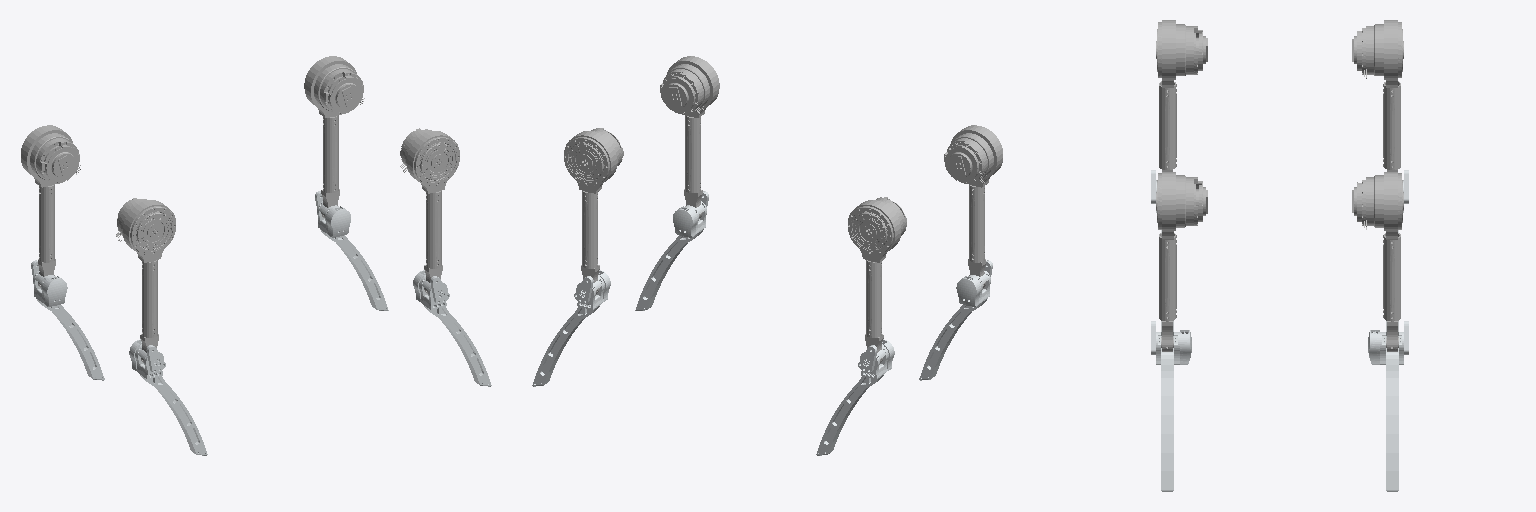
The robot description file, URDF, robot "PONGBOT_Q_V6":
<?xml version="1.0" encoding="utf-8"?>
<!-- This URDF was automatically created by SolidWorks to URDF Exporter! Originally created by [author] ([email redacted])
Commit Version: 1.5.1-0-g916b5db  Build Version: 1.5.7152.31018
For more information, please see http://wiki.ros.org/sw_urdf_exporter -->
<robot
    name="PONGBOT_Q_V6">
    <link
        name="BODY">
        <inertial>
            <origin
                xyz="-0.0221 0.00034 0.05293"
                rpy="0 0 0" />
            <mass
                value="24.701" />
            <inertia
                ixx="0.34089"
                ixy="-0.00272"
                ixz="-0.08697"
                iyy="1.8849"
                iyz="0.00032"
                izz="1.9898" />
        </inertial>
        <visual>
            <origin
                xyz="0 0 0"
                rpy="0 0 0" />
            <geometry>
                <mesh
                    filename="package://PONGBOT_Q_V6/meshes/BODY.STL" />
            </geometry>
            <material
                name="">
                <color
                    rgba="0.75294 0.75294 0.75294 1" />
            </material>
        </visual>
        <collision>
            <origin
                xyz="0 0 0"
                rpy="0 0 0" />
            <geometry>
                <mesh
                    filename="package://PONGBOT_Q_V6/meshes/BODY.STL" />
            </geometry>
        </collision>
    </link>
    <link
        name="RL_HIP">
        <inertial>
            <origin
                xyz="-0.00113 -0.00546 -0.00059"
                rpy="0 0 0" />
            <mass
                value="1.5346" />
            <inertia
                ixx="0.00131"
                ixy="0"
                ixz="1E-05"
                iyy="0.00176"
                iyz="1E-05"
                izz="0.00141" />
        </inertial>
        <visual>
            <origin
                xyz="0 0 0"
                rpy="0 0 0" />
            <geometry>
                <mesh
                    filename="package://PONGBOT_Q_V6/meshes/RL_HIP.STL" />
            </geometry>
            <material
                name="">
                <color
                    rgba="0.75294 0.75294 0.75294 1" />
            </material>
        </visual>
        <collision>
            <origin
                xyz="0 0 0"
                rpy="0 0 0" />
            <geometry>
                <mesh
                    filename="package://PONGBOT_Q_V6/meshes/RL_HIP.STL" />
            </geometry>
        </collision>
    </link>
    <joint
        name="1_RL_HR_JOINT"
        type="continuous">
        <origin
            xyz="-0.35 0.11502 0"
            rpy="0 0 0" />
        <parent
            link="BODY" />
        <child
            link="RL_HIP" />
        <axis
            xyz="1 0 0" />
    </joint>
    <link
        name="RL_THIGH">
        <inertial>
            <origin
                xyz="0.00018 -0.01146 -0.02836"
                rpy="0 0 0" />
            <mass
                value="3.32" />
            <inertia
                ixx="0.02493"
                ixy="-3E-05"
                ixz="2E-05"
                iyy="0.02533"
                iyz="-0.001"
                izz="0.00394" />
        </inertial>
        <visual>
            <origin
                xyz="0 0 0"
                rpy="0 0 0" />
            <geometry>
                <mesh
                    filename="package://PONGBOT_Q_V6/meshes/RL_THIGH.STL" />
            </geometry>
            <material
                name="">
                <color
                    rgba="0.75294 0.75294 0.75294 1" />
            </material>
        </visual>
        <collision>
            <origin
                xyz="0 0 0"
                rpy="0 0 0" />
            <geometry>
                <mesh
                    filename="package://PONGBOT_Q_V6/meshes/RL_THIGH.STL" />
            </geometry>
        </collision>
    </link>
    <joint
        name="RL_HP_JOINT"
        type="continuous">
        <origin
            xyz="0 0.1049 0"
            rpy="0 0 0" />
        <parent
            link="RL_HIP" />
        <child
            link="RL_THIGH" />
        <axis
            xyz="0 1 0" />
    </joint>
    <link
        name="RL_CALF">
        <inertial>
            <origin
                xyz="0.03375 0.00334 -0.0746"
                rpy="0 0 0" />
            <mass
                value="0.57335" />
            <inertia
                ixx="0.00434"
                ixy="-7E-05"
                ixz="-0.0021615"
                iyy="0.00538"
                iyz="0.00018"
                izz="0.00139" />
        </inertial>
        <visual>
            <origin
                xyz="0 0 0"
                rpy="0 0 0" />
            <geometry>
                <mesh
                    filename="package://PONGBOT_Q_V6/meshes/RL_CALF.STL" />
            </geometry>
            <material
                name="">
                <color
                    rgba="0.89804 0.91765 0.92941 1" />
            </material>
        </visual>
        <collision>
            <origin
                xyz="0 0 0"
                rpy="0 0 0" />
            <geometry>
                <mesh
                    filename="package://PONGBOT_Q_V6/meshes/RL_CALF.STL" />
            </geometry>
        </collision>
    </link>
    <joint
        name="RL_KN_JOINT"
        type="continuous">
        <origin
            xyz="0 0 -0.305"
            rpy="0 0 0" />
        <parent
            link="RL_THIGH" />
        <child
            link="RL_CALF" />
        <axis
            xyz="0 1 0" />
    </joint>
    <!--link
      name="RL_TIP">
      <inertial>
        <origin
          xyz="-0.00076 0 0.00289"
          rpy="0 0 0" />
        <mass
          value="0.1646" />
        <inertia
          ixx="9E-05"
          ixy="0"
          ixz="-1E-05"
          iyy="9E-05"
          iyz="0"
          izz="8E-05" />
      </inertial>
      <visual>
        <origin
          xyz="0 0 0"
          rpy="0 0 0" />
        <geometry>
          <mesh
            filename="package://PONGBOT_Q_V6/meshes/RL_TIP.STL" />
        </geometry>
        <material
          name="">
          <color
            rgba="0.75294 0.75294 0.75294 1" />
        </material>
      </visual>
      <collision>
        <origin
          xyz="0 0 0"
          rpy="0 0 0" />
        <geometry>
          <mesh
            filename="package://PONGBOT_Q_V6/meshes/RL_TIP.STL" />
        </geometry>
      </collision>
    </link>
    <joint
      name="RL_TIP_JOINT"
      type="fixed">
      <origin
        xyz="0.11836 0 -0.26273"
        rpy="0 0 0" />
      <parent
        link="RL_CALF" />
      <child
        link="RL_TIP" />
      <axis
        xyz="0 0 0" />
    </joint-->
    <link
        name="RR_HIP">
        <inertial>
            <origin
                xyz="-0.00113 0.00546 0.00059"
                rpy="0 0 0" />
            <mass
                value="1.5346" />
            <inertia
                ixx="0.00131"
                ixy="0"
                ixz="-1E-05"
                iyy="0.00176"
                iyz="1E-05"
                izz="0.00141" />
        </inertial>
        <visual>
            <origin
                xyz="0 0 0"
                rpy="0 0 0" />
            <geometry>
                <mesh
                    filename="package://PONGBOT_Q_V6/meshes/RR_HIP.STL" />
            </geometry>
            <material
                name="">
                <color
                    rgba="0.75294 0.75294 0.75294 1" />
            </material>
        </visual>
        <collision>
            <origin
                xyz="0 0 0"
                rpy="0 0 0" />
            <geometry>
                <mesh
                    filename="package://PONGBOT_Q_V6/meshes/RR_HIP.STL" />
            </geometry>
        </collision>
    </link>
    <joint
        name="2_RR_HR_JOINT"
        type="continuous">
        <origin
            xyz="-0.35 -0.11502 0"
            rpy="0 0 0" />
        <parent
            link="BODY" />
        <child
            link="RR_HIP" />
        <axis
            xyz="1 0 0" />
    </joint>
    <link
        name="RR_THIGH">
        <inertial>
            <origin
                xyz="-0.00018 0.01146 -0.02836"
                rpy="0 0 0" />
            <mass
                value="3.32" />
            <inertia
                ixx="0.02493"
                ixy="-3E-05"
                ixz="-2E-05"
                iyy="0.028"
                iyz="0.001"
                izz="0.00394" />
        </inertial>
        <visual>
            <origin
                xyz="0 0 0"
                rpy="0 0 0" />
            <geometry>
                <mesh
                    filename="package://PONGBOT_Q_V6/meshes/RR_THIGH.STL" />
            </geometry>
            <material
                name="">
                <color
                    rgba="0.75294 0.75294 0.75294 1" />
            </material>
        </visual>
        <collision>
            <origin
                xyz="0 0 0"
                rpy="0 0 0" />
            <geometry>
                <mesh
                    filename="package://PONGBOT_Q_V6/meshes/RR_THIGH.STL" />
            </geometry>
        </collision>
    </link>
    <joint
        name="RR_HP_JOINT"
        type="continuous">
        <origin
            xyz="0 -0.1049 0"
            rpy="0 0 0" />
        <parent
            link="RR_HIP" />
        <child
            link="RR_THIGH" />
        <axis
            xyz="0 1 0" />
    </joint>
    <link
        name="RR_CALF">
        <inertial>
            <origin
                xyz="0.03376 -0.00334 -0.0746"
                rpy="0 0 0" />
            <mass
                value="0.57335" />
            <inertia
                ixx="0.00434"
                ixy="7E-05"
                ixz="-0.00216"
                iyy="0.00538"
                iyz="-0.00018"
                izz="0.00139" />
        </inertial>
        <visual>
            <origin
                xyz="0 0 0"
                rpy="0 0 0" />
            <geometry>
                <mesh
                    filename="package://PONGBOT_Q_V6/meshes/RR_CALF.STL" />
            </geometry>
            <material
                name="">
                <color
                    rgba="0.89804 0.91765 0.92941 1" />
            </material>
        </visual>
        <collision>
            <origin
                xyz="0 0 0"
                rpy="0 0 0" />
            <geometry>
                <mesh
                    filename="package://PONGBOT_Q_V6/meshes/RR_CALF.STL" />
            </geometry>
        </collision>
    </link>
    <joint
        name="RR_KN_JOINT"
        type="continuous">
        <origin
            xyz="0 0 -0.305"
            rpy="0 0 0" />
        <parent
            link="RR_THIGH" />
        <child
            link="RR_CALF" />
        <axis
            xyz="0 1 0" />
    </joint>
    <!--link
      name="RR_TIP">
      <inertial>
        <origin
          xyz="-0.00076 0 0.00289"
          rpy="0 0 0" />
        <mass
          value="0.1646" />
        <inertia
          ixx="9E-05"
          ixy="0"
          ixz="-1E-05"
          iyy="9E-05"
          iyz="0"
          izz="8E-05" />
      </inertial>
      <visual>
        <origin
          xyz="0 0 0"
          rpy="0 0 0" />
        <geometry>
          <mesh
            filename="package://PONGBOT_Q_V6/meshes/RR_TIP.STL" />
        </geometry>
        <material
          name="">
          <color
            rgba="0.75294 0.75294 0.75294 1" />
        </material>
      </visual>
      <collision>
        <origin
          xyz="0 0 0"
          rpy="0 0 0" />
        <geometry>
          <mesh
            filename="package://PONGBOT_Q_V6/meshes/RR_TIP.STL" />
        </geometry>
      </collision>
    </link>
    <joint
      name="RR_TIP_JOINT"
      type="fixed">
      <origin
        xyz="0.11836 0 -0.26273"
        rpy="0 0 0" />
      <parent
        link="RR_CALF" />
      <child
        link="RR_TIP" />
      <axis
        xyz="0 0 0" />
    </joint-->
    <link
        name="FL_HIP">
        <inertial>
            <origin
                xyz="0.00113 -0.00546 0.00059"
                rpy="0 0 0" />
            <mass
                value="1.5346" />
            <inertia
                ixx="0.00131"
                ixy="0"
                ixz="1E-05"
                iyy="0.00176"
                iyz="-1E-05"
                izz="0.00141" />
        </inertial>
        <visual>
            <origin
                xyz="0 0 0"
                rpy="0 0 0" />
            <geometry>
                <mesh
                    filename="package://PONGBOT_Q_V6/meshes/FL_HIP.STL" />
            </geometry>
            <material
                name="">
                <color
                    rgba="0.75294 0.75294 0.75294 1" />
            </material>
        </visual>
        <collision>
            <origin
                xyz="0 0 0"
                rpy="0 0 0" />
            <geometry>
                <mesh
                    filename="package://PONGBOT_Q_V6/meshes/FL_HIP.STL" />
            </geometry>
        </collision>
    </link>
    <joint
        name="3_FL_HR_JOINT"
        type="continuous">
        <origin
            xyz="0.35 0.11502 0"
            rpy="0 0 0" />
        <parent
            link="BODY" />
        <child
            link="FL_HIP" />
        <axis
            xyz="1 0 0" />
    </joint>
    <link
        name="FL_THIGH">
        <inertial>
            <origin
                xyz="0.00018 -0.01146 -0.02836"
                rpy="0 0 0" />
            <mass
                value="3.32" />
            <inertia
                ixx="0.02493"
                ixy="-3E-05"
                ixz="2E-05"
                iyy="0.02533"
                iyz="-0.001"
                izz="0.00394" />
        </inertial>
        <visual>
            <origin
                xyz="0 0 0"
                rpy="0 0 0" />
            <geometry>
                <mesh
                    filename="package://PONGBOT_Q_V6/meshes/FL_THIGH.STL" />
            </geometry>
            <material
                name="">
                <color
                    rgba="0.75294 0.75294 0.75294 1" />
            </material>
        </visual>
        <collision>
            <origin
                xyz="0 0 0"
                rpy="0 0 0" />
            <geometry>
                <mesh
                    filename="package://PONGBOT_Q_V6/meshes/FL_THIGH.STL" />
            </geometry>
        </collision>
    </link>
    <joint
        name="FL_HP_JOINT"
        type="continuous">
        <origin
            xyz="0 0.1049 0"
            rpy="0 0 0" />
        <parent
            link="FL_HIP" />
        <child
            link="FL_THIGH" />
        <axis
            xyz="0 1 0" />
    </joint>
    <link
        name="FL_CALF">
        <inertial>
            <origin
                xyz="0.03375 0.00334 -0.0746"
                rpy="0 0 0" />
            <mass
                value="0.57335" />
            <inertia
                ixx="0.00434"
                ixy="-7E-05"
                ixz="-0.00216"
                iyy="0.00538"
                iyz="0.00018"
                izz="0.00139" />
        </inertial>
        <visual>
            <origin
                xyz="0 0 0"
                rpy="0 0 0" />
            <geometry>
                <mesh
                    filename="package://PONGBOT_Q_V6/meshes/FL_CALF.STL" />
            </geometry>
            <material
                name="">
                <color
                    rgba="0.89804 0.91765 0.92941 1" />
            </material>
        </visual>
        <collision>
            <origin
                xyz="0 0 0"
                rpy="0 0 0" />
            <geometry>
                <mesh
                    filename="package://PONGBOT_Q_V6/meshes/FL_CALF.STL" />
            </geometry>
        </collision>
    </link>
    <joint
        name="FL_KN_JOINT"
        type="continuous">
        <origin
            xyz="0 0 -0.305"
            rpy="0 0 0" />
        <parent
            link="FL_THIGH" />
        <child
            link="FL_CALF" />
        <axis
            xyz="0 1 0" />
    </joint>
    <!--link
      name="FL_TIP">
      <inertial>
        <origin
          xyz="-0.00076 0 0.00289"
          rpy="0 0 0" />
        <mass
          value="0.1646" />
        <inertia
          ixx="9E-05"
          ixy="0"
          ixz="-1E-05"
          iyy="9E-05"
          iyz="0"
          izz="8E-05" />
      </inertial>
      <visual>
        <origin
          xyz="0 0 0"
          rpy="0 0 0" />
        <geometry>
          <mesh
            filename="package://PONGBOT_Q_V6/meshes/FL_TIP.STL" />
        </geometry>
        <material
          name="">
          <color
            rgba="0.75294 0.75294 0.75294 1" />
        </material>
      </visual>
      <collision>
        <origin
          xyz="0 0 0"
          rpy="0 0 0" />
        <geometry>
          <mesh
            filename="package://PONGBOT_Q_V6/meshes/FL_TIP.STL" />
        </geometry>
      </collision>
    </link>
    <joint
      name="FL_TIP_JOINT"
      type="fixed">
      <origin
        xyz="0.11836 0 -0.26273"
        rpy="0 0 0" />
      <parent
        link="FL_CALF" />
      <child
        link="FL_TIP" />
      <axis
        xyz="0 0 0" />
    </joint-->
    <link
        name="FR_HIP">
        <inertial>
            <origin
                xyz="0.00113 0.00546 -0.00059"
                rpy="0 0 0" />
            <mass
                value="1.5346" />
            <inertia
                ixx="0.00131"
                ixy="0"
                ixz="-1E-05"
                iyy="0.00176"
                iyz="-1E-05"
                izz="0.00141" />
        </inertial>
        <visual>
            <origin
                xyz="0 0 0"
                rpy="0 0 0" />
            <geometry>
                <mesh
                    filename="package://PONGBOT_Q_V6/meshes/FR_HIP.STL" />
            </geometry>
            <material
                name="">
                <color
                    rgba="0.75294 0.75294 0.75294 1" />
            </material>
        </visual>
        <collision>
            <origin
                xyz="0 0 0"
                rpy="0 0 0" />
            <geometry>
                <mesh
                    filename="package://PONGBOT_Q_V6/meshes/FR_HIP.STL" />
            </geometry>
        </collision>
    </link>
    <joint
        name="4_FR_HR_JOINT"
        type="continuous">
        <origin
            xyz="0.35 -0.11502 0"
            rpy="0 0 0" />
        <parent
            link="BODY" />
        <child
            link="FR_HIP" />
        <axis
            xyz="1 0 0" />
    </joint>
    <link
        name="FR_THIGH">
        <inertial>
            <origin
                xyz="-0.00018 0.01146 -0.02836"
                rpy="0 0 0" />
            <mass
                value="3.32" />
            <inertia
                ixx="0.02493"
                ixy="-3E-05"
                ixz="-2E-05"
                iyy="0.02533"
                iyz="0.001"
                izz="0.00394" />
        </inertial>
        <visual>
            <origin
                xyz="0 0 0"
                rpy="0 0 0" />
            <geometry>
                <mesh
                    filename="package://PONGBOT_Q_V6/meshes/FR_THIGH.STL" />
            </geometry>
            <material
                name="">
                <color
                    rgba="0.75294 0.75294 0.75294 1" />
            </material>
        </visual>
        <collision>
            <origin
                xyz="0 0 0"
                rpy="0 0 0" />
            <geometry>
                <mesh
                    filename="package://PONGBOT_Q_V6/meshes/FR_THIGH.STL" />
            </geometry>
        </collision>
    </link>
    <joint
        name="FR_HP_JOINT"
        type="continuous">
        <origin
            xyz="0 -0.1049 0"
            rpy="0 0 0" />
        <parent
            link="FR_HIP" />
        <child
            link="FR_THIGH" />
        <axis
            xyz="0 1 0" />
    </joint>
    <link
        name="FR_CALF">
        <inertial>
            <origin
                xyz="0.03376 -0.00334 -0.0746"
                rpy="0 0 0" />
            <mass
                value="0.57335" />
            <inertia
                ixx="0.00434"
                ixy="7E-05"
                ixz="-0.00216"
                iyy="0.00538"
                iyz="-0.00018"
                izz="0.00139" />
        </inertial>
        <visual>
            <origin
                xyz="0 0 0"
                rpy="0 0 0" />
            <geometry>
                <mesh
                    filename="package://PONGBOT_Q_V6/meshes/FR_CALF.STL" />
            </geometry>
            <material
                name="">
                <color
                    rgba="0.89804 0.91765 0.92941 1" />
            </material>
        </visual>
        <collision>
            <origin
                xyz="0 0 0"
                rpy="0 0 0" />
            <geometry>
                <mesh
                    filename="package://PONGBOT_Q_V6/meshes/FR_CALF.STL" />
            </geometry>
        </collision>
    </link>
    <joint
        name="FR_KN_JOINT"
        type="continuous">
        <origin
            xyz="0 0 -0.305"
            rpy="0 0 0" />
        <parent
            link="FR_THIGH" />
        <child
            link="FR_CALF" />
        <axis
            xyz="0 1 0" />
    </joint>
    <!--link
      name="FR_TIP">
      <inertial>
        <origin
          xyz="-0.00076 0 0.00289"
          rpy="0 0 0" />
        <mass
          value="0.1646" />
        <inertia
          ixx="9E-05"
          ixy="0"
          ixz="-1E-05"
          iyy="9E-05"
          iyz="0"
          izz="8E-05" />
      </inertial>
      <visual>
        <origin
          xyz="0 0 0"
          rpy="0 0 0" />
        <geometry>
          <mesh
            filename="package://PONGBOT_Q_V6/meshes/FR_TIP.STL" />
        </geometry>
        <material
          name="">
          <color
            rgba="0.75294 0.75294 0.75294 1" />
        </material>
      </visual>
      <collision>
        <origin
          xyz="0 0 0"
          rpy="0 0 0" />
        <geometry>
          <mesh
            filename="package://PONGBOT_Q_V6/meshes/FR_TIP.STL" />
        </geometry>
      </collision>
    </link>
    <joint
      name="FR_TIP_JOINT"
      type="fixed">
      <origin
        xyz="0.11836 0 -0.26273"
        rpy="0 0 0" />
      <parent
        link="FR_CALF" />
      <child
        link="FR_TIP" />
      <axis
        xyz="0 0 0" />
    </joint-->
</robot>

--- Render facts (derived) ---
The picture shows the robot from 3 angles, left to right: view 1: azimuth 30°, elevation 25°; view 2: azimuth 150°, elevation 25°; view 3: azimuth 270°, elevation 25°; orthographic projection.
Model PONGBOT_Q_V6 with 13 links and 12 joints (12 continuous), rooted at BODY, posed every joint at zero.
Links seen in each view (by area): view 1: FR_THIGH, FL_THIGH, RR_THIGH, RL_THIGH, RR_CALF, FR_CALF, RL_CALF, FL_CALF; view 2: FR_THIGH, RR_THIGH, FL_THIGH, RL_THIGH, RL_CALF, FL_CALF, RR_CALF, FR_CALF; view 3: FR_THIGH, FL_THIGH, RR_THIGH, RL_THIGH, FL_CALF, FR_CALF.
Link boxes in pixels (x1=…): FR_THIGH: x1=400, y1=128, x2=459, y2=293; FL_THIGH: x1=304, y1=56, x2=364, y2=217; RR_THIGH: x1=116, y1=198, x2=175, y2=362; RL_THIGH: x1=21, y1=125, x2=80, y2=287; RR_CALF: x1=129, y1=339, x2=207, y2=455; FR_CALF: x1=413, y1=270, x2=491, y2=386; RL_CALF: x1=31, y1=260, x2=104, y2=380; FL_CALF: x1=315, y1=191, x2=388, y2=310; FR_THIGH: x1=660, y1=56, x2=719, y2=217; RR_THIGH: x1=944, y1=125, x2=1002, y2=287; FL_THIGH: x1=564, y1=128, x2=623, y2=293; RL_THIGH: x1=848, y1=197, x2=906, y2=362; RL_CALF: x1=816, y1=339, x2=894, y2=455; FL_CALF: x1=532, y1=270, x2=610, y2=386; RR_CALF: x1=919, y1=260, x2=992, y2=380; FR_CALF: x1=635, y1=191, x2=708, y2=310; FR_THIGH: x1=1156, y1=172, x2=1207, y2=351; FL_THIGH: x1=1352, y1=172, x2=1403, y2=351; RR_THIGH: x1=1156, y1=20, x2=1207, y2=171; RL_THIGH: x1=1352, y1=20, x2=1403, y2=171; FL_CALF: x1=1368, y1=321, x2=1408, y2=491; FR_CALF: x1=1151, y1=321, x2=1191, y2=491.
Bounding box of the posed robot: 0.894 × 0.5038 × 0.6223 m (x, y, z).
Meshes: 13 distinct files referenced, 8 mesh visuals loaded (8 binary STL); not drawn: 5 (reference not matched to a file when rendering).